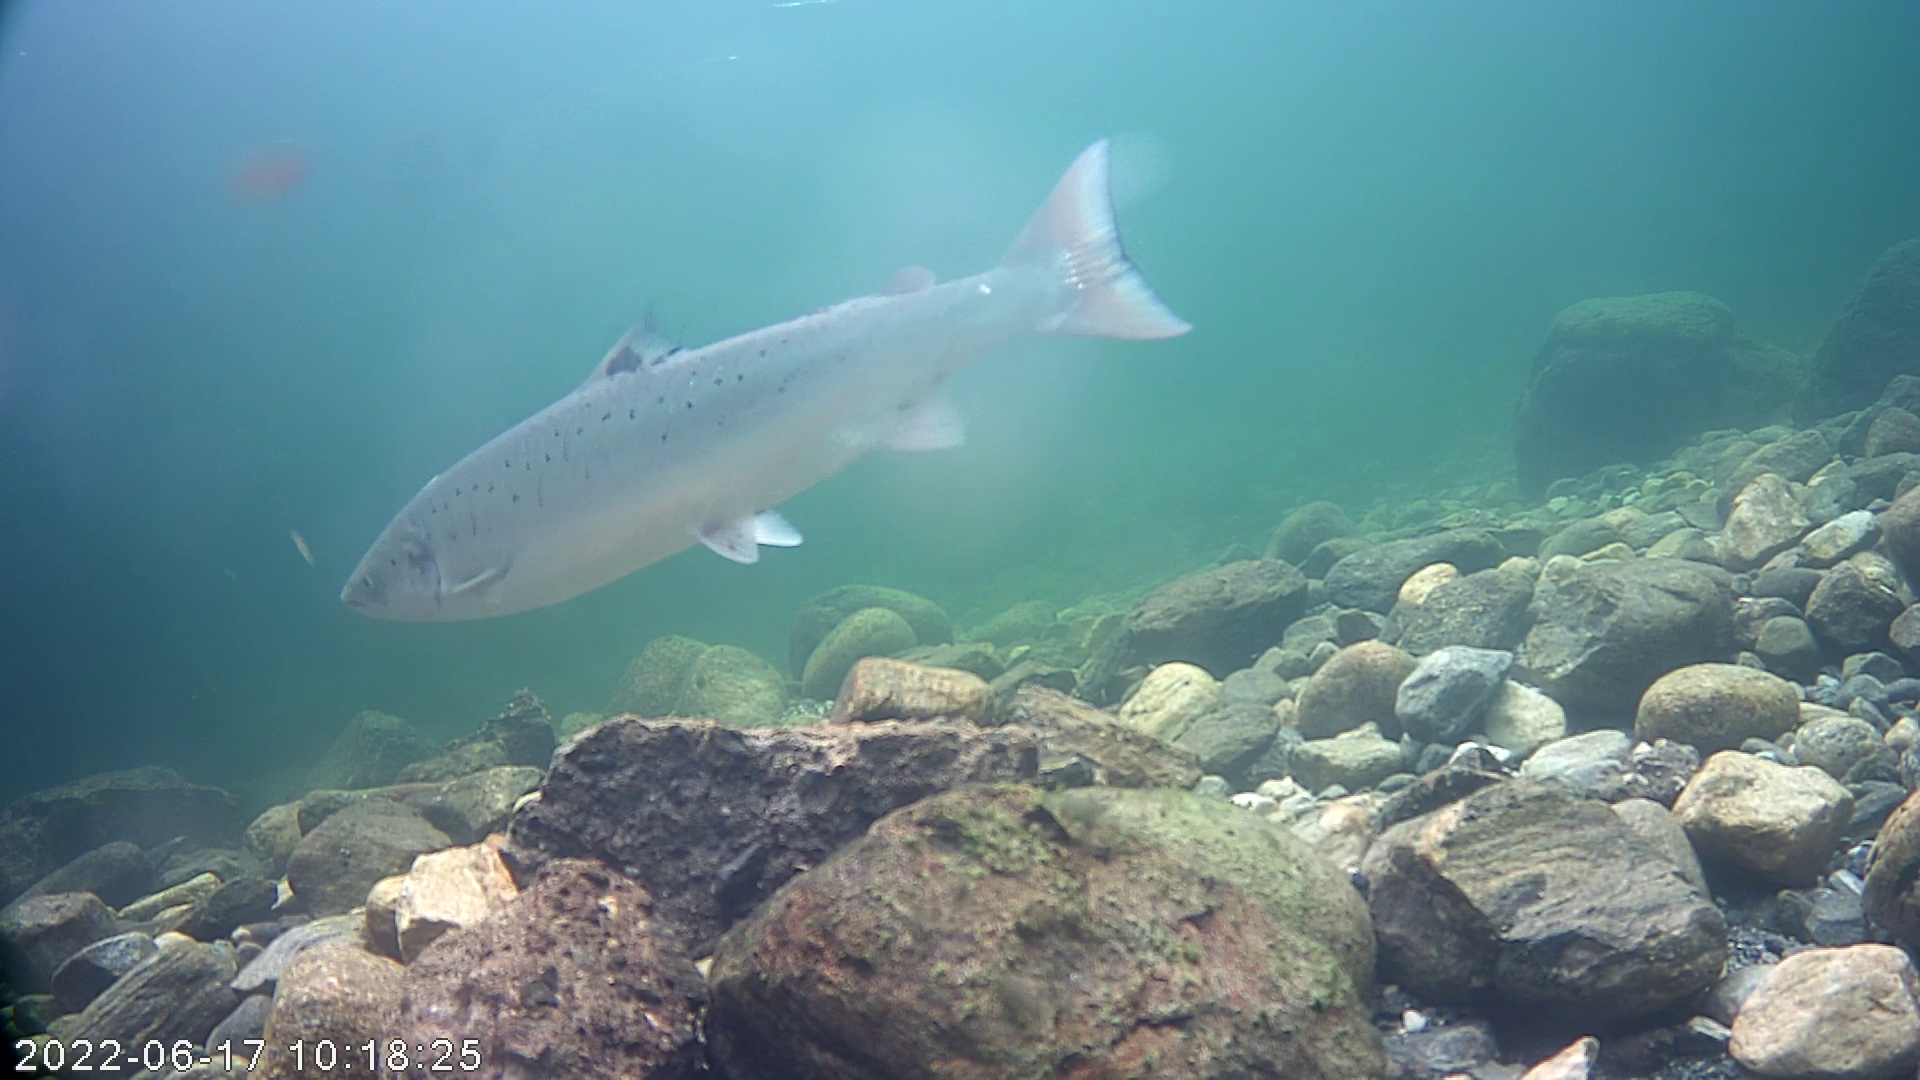salmon: (336, 135, 1195, 630)
